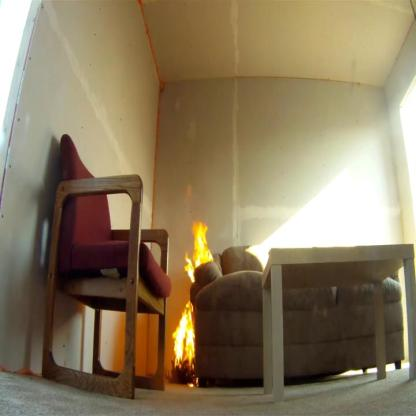fire: (170, 296, 199, 391), (184, 219, 214, 283)
